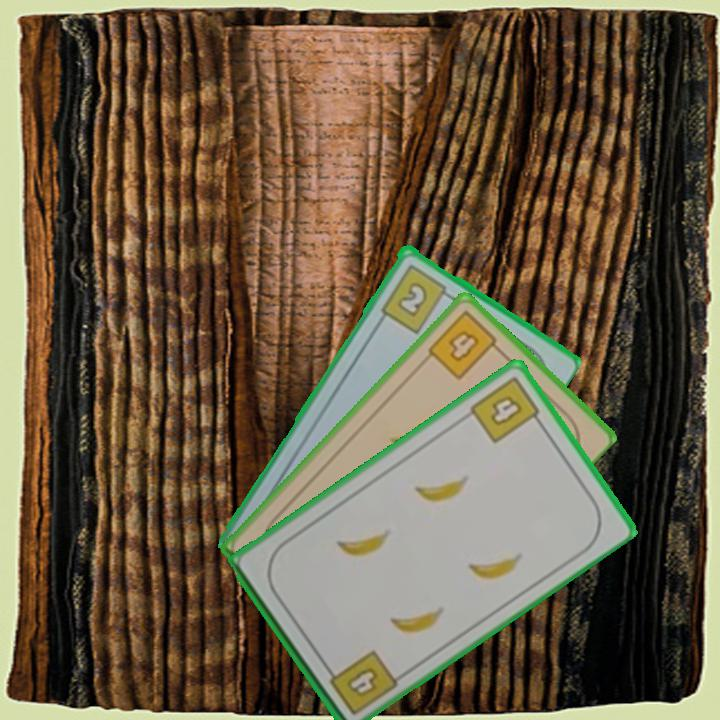2b: (377, 260, 456, 336)
4b: (424, 306, 505, 383), (466, 372, 546, 446), (321, 646, 401, 718)
